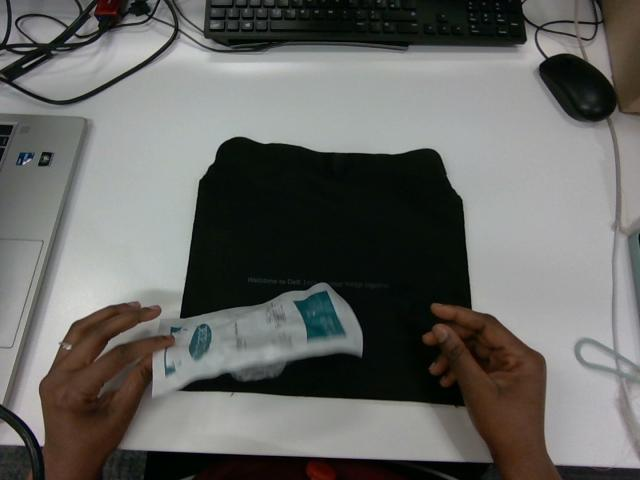gallipot: (152, 283, 362, 396)
